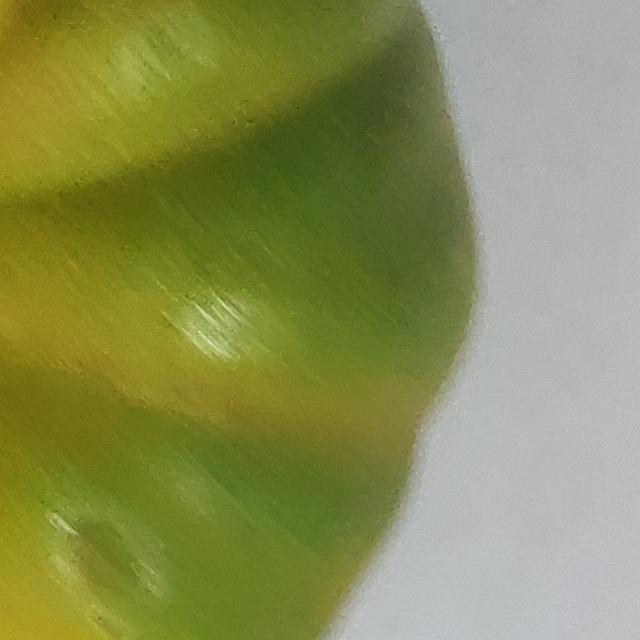tomato: (0, 0, 484, 640)
